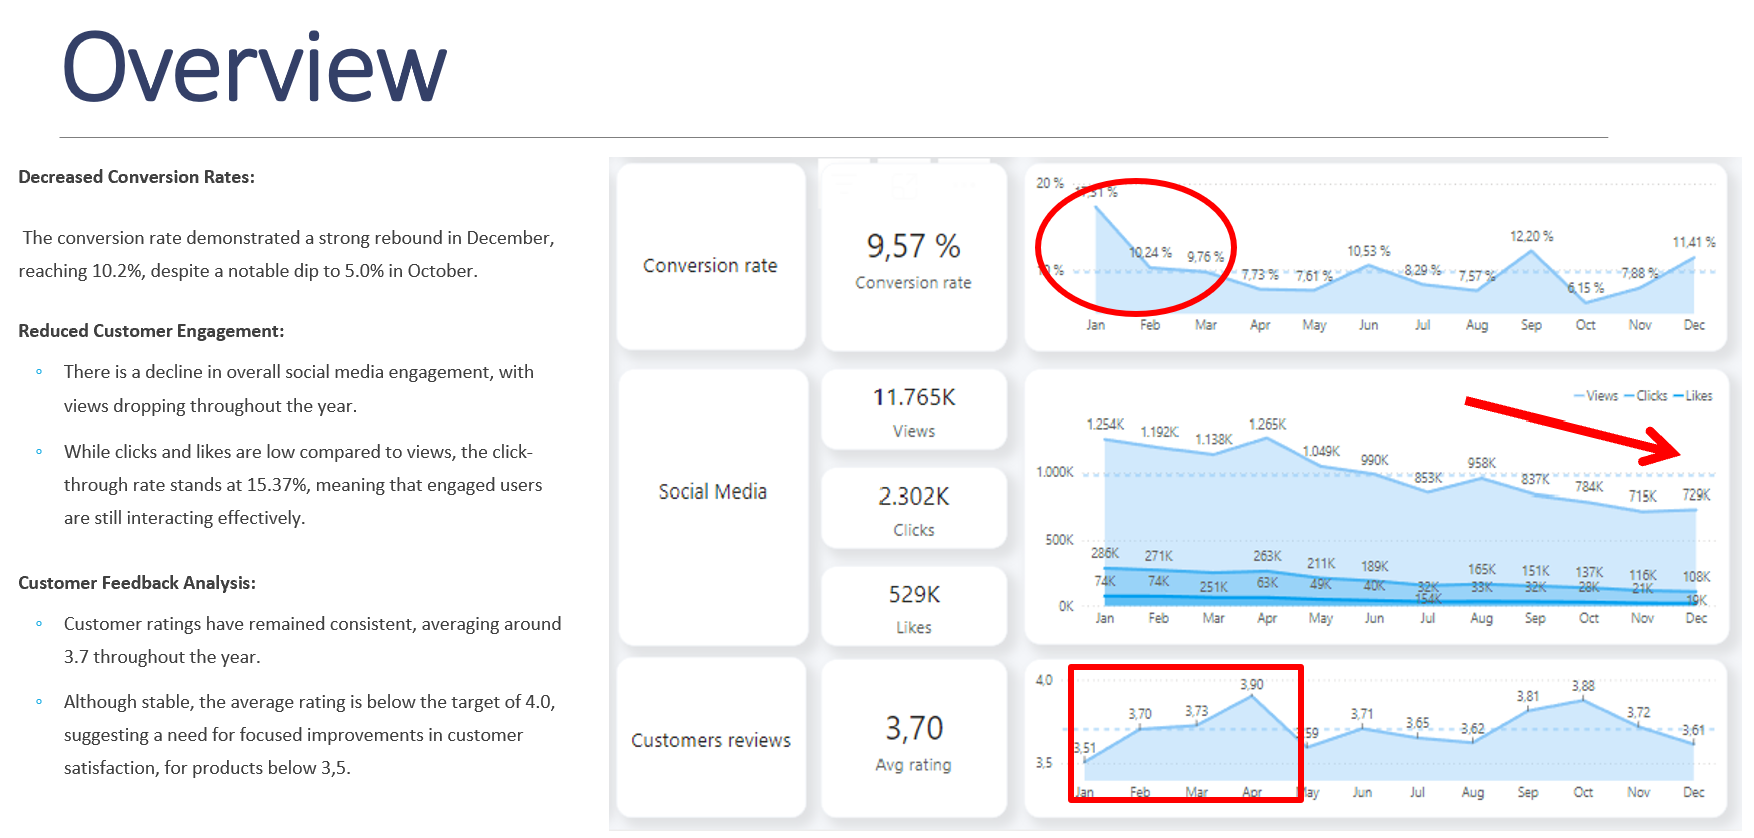

This screenshot's page, from the dashboard's own definition file:
{"tool":"powerbi","page":{"name":"Overview","canvas":[1280,720],"ordinal":0},"visuals":[{"type":"textbox","box":[0,13.2,188.1,72.9],"z":0},{"type":"slicer","title":"Product Name","fields":{"Values":["DIM_Products.ProductName"]},"box":[0,92.8,188.4,614.1],"z":1000},{"type":"textbox","box":[199,13.3,376.7,73],"z":2000},{"type":"slicer","fields":{"Values":["Calendar.Date.Variation.Date Hierarchy.Year"]},"box":[219.9,13.2,340.4,72.9],"z":3000},{"type":"slicer","fields":{"Values":["Calendar.MonthNameShort"]},"box":[592.9,13.3,673.8,73],"z":4000},{"type":"textbox","box":[201.6,92.8,181.7,176.4],"z":5000},{"type":"textbox","box":[202.4,285.7,182.9,259.6],"z":6000},{"type":"textbox","box":[200.8,556.7,182.9,151.8],"z":7000},{"type":"card","fields":{"Values":["Measures (3).Conversion rate"]},"box":[398.4,93.1,178,178],"z":8000},{"type":"card","fields":{"Values":["Measures (3).Views"]},"box":[398.4,285.7,178,75.1],"z":9000},{"type":"card","fields":{"Values":["Measures (3).Clicks"]},"box":[398.4,378.8,178,75.1],"z":10000},{"type":"card","fields":{"Values":["Measures (3).Likes"]},"box":[398.4,470.2,178,75.1],"z":11000},{"type":"card","fields":{"Values":["Measures (3).Avg rating"]},"box":[398.4,558.4,178,150.2],"z":12000},{"type":"lineChart","fields":{"Y":["Measures (3).Conversion rate"],"Category":["Calendar.MonthNameShort"]},"box":[592.7,93.1,674.3,178],"z":13000},{"type":"lineChart","fields":{"Y":["Measures (3).Views","Measures (3).Clicks","Measures (3).Likes"],"Category":["Calendar.MonthNameShort"]},"box":[591,287.3,675.9,258],"z":14000},{"type":"lineChart","fields":{"Y":["Measures (3).Avg rating"],"Category":["Calendar.MonthNameShort"]},"box":[592.7,558.4,674.3,150.2],"z":15000}]}

Visuals, with their boxes on the page's 1280x720 design canvas (x1, y1, x2, y2). These are canvas units, not pixel positions in the 1754x838 screenshot, which may show the page scaled, cropped or inside an application window:
textbox: (0,13,188,86)
"Product Name" slicer: (0,93,188,707)
textbox: (199,13,576,86)
slicer - Calendar.Date.Variation.Date Hierarchy.Year: (220,13,560,86)
slicer - Calendar.MonthNameShort: (593,13,1267,86)
textbox: (202,93,383,269)
textbox: (202,286,385,545)
textbox: (201,557,384,708)
card - Measures (3).Conversion rate: (398,93,576,271)
card - Measures (3).Views: (398,286,576,361)
card - Measures (3).Clicks: (398,379,576,454)
card - Measures (3).Likes: (398,470,576,545)
card - Measures (3).Avg rating: (398,558,576,709)
lineChart - Measures (3).Conversion rate x Calendar.MonthNameShort: (593,93,1267,271)
lineChart - Measures (3).Views x Measures (3).Clicks: (591,287,1267,545)
lineChart - Measures (3).Avg rating x Calendar.MonthNameShort: (593,558,1267,709)
